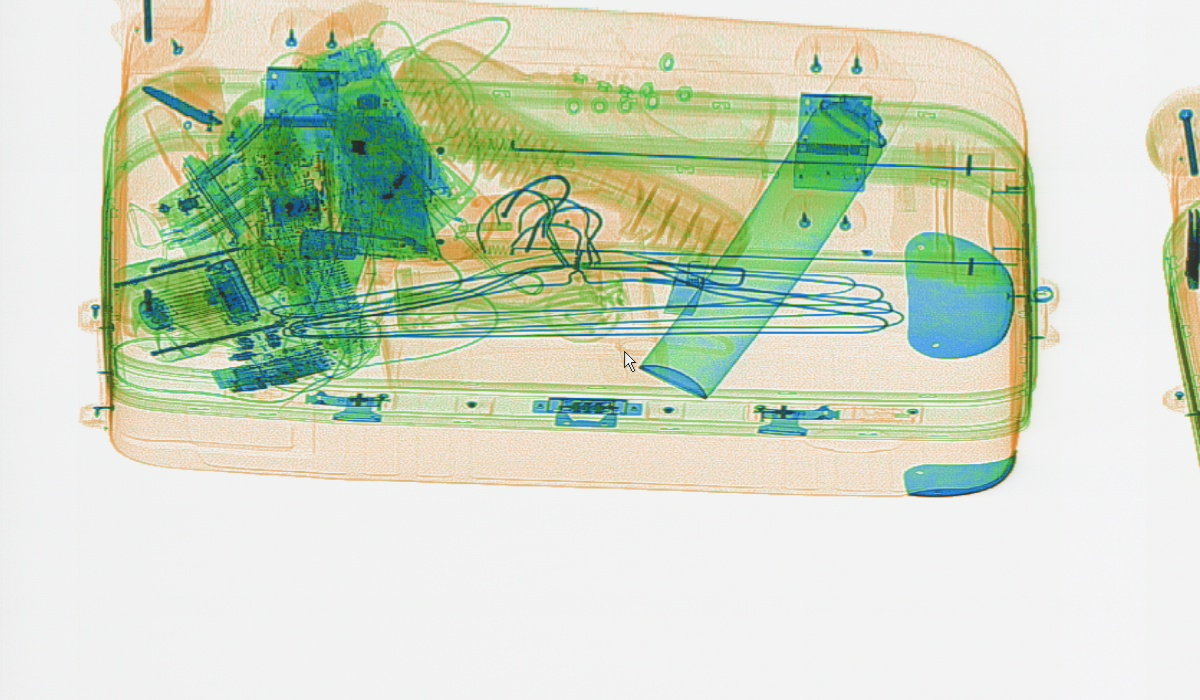pressure: (639, 41, 916, 385)
